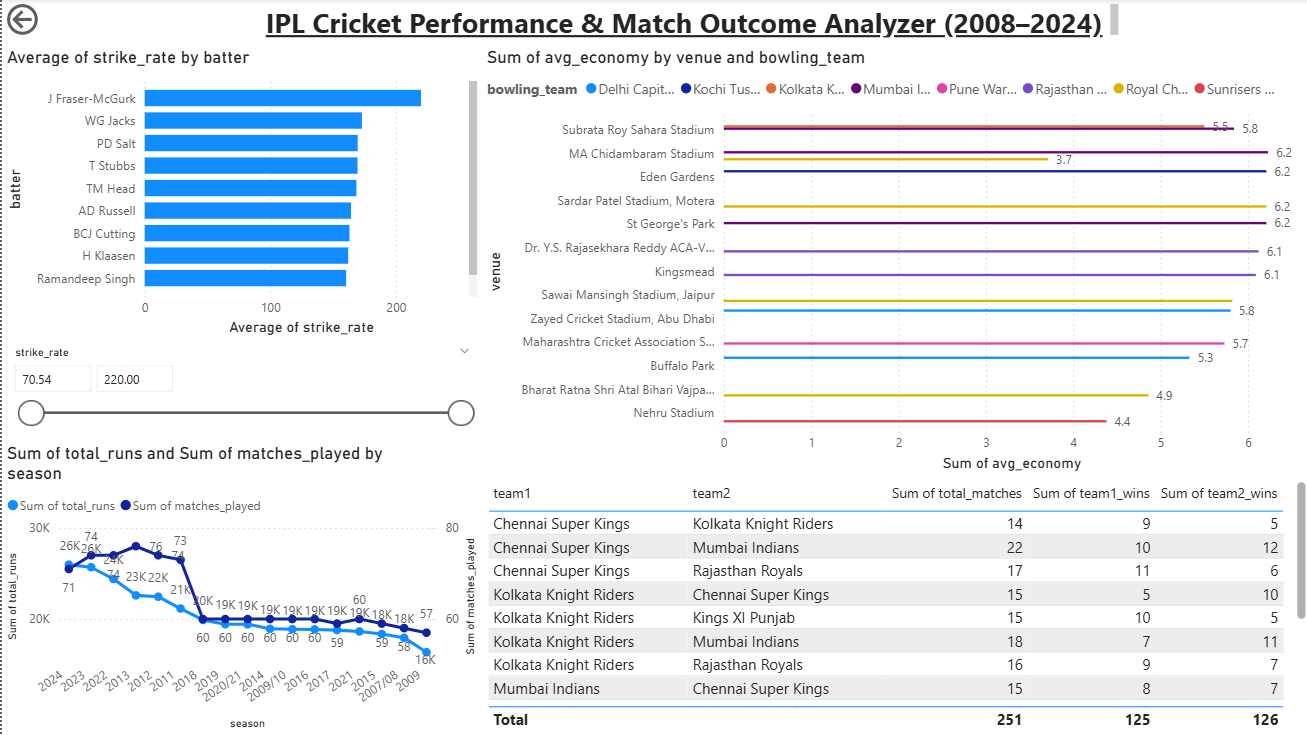

The page's visual inventory and layout, read from the dashboard file:
{"tool":"powerbi","page":{"name":"Page 1","canvas":[1280,720],"ordinal":0},"visuals":[{"type":"clusteredBarChart","fields":{"Category":["batsman_full.batter"],"Y":["Avg(batsman_full.strike_rate)"]},"box":[0,46,470,288],"z":0},{"type":"slicer","fields":{"Values":["batsman_full.strike_rate"]},"box":[0,334,470,100],"z":1000},{"type":"clusteredBarChart","fields":{"Category":["venue_economy.venue"],"Y":["Sum(venue_economy.avg_economy)"],"Series":["venue_economy.bowling_team"]},"box":[470,46,810,420],"z":2000},{"type":"lineChart","fields":{"Category":["season_trends.season"],"Y":["Sum(season_trends.total_runs)"],"Y2":["Sum(season_trends.matches_played)"]},"box":[0,434,470,286],"z":3000},{"type":"tableEx","fields":{"Values":["head_to_head.team1","head_to_head.team2","Sum(head_to_head.total_matches)","Sum(head_to_head.team1_wins)","Sum(head_to_head.team2_wins)"]},"box":[469,467,811,253],"z":4000},{"type":"actionButton","box":[0,0,100,40],"z":5000},{"type":"textbox","box":[246.2,0,851.2,42.5],"z":6000}]}

Visuals, with their boxes on the page's 1280x720 design canvas (x1, y1, x2, y2). These are canvas units, not pixel positions in the 1307x735 screenshot, which may show the page scaled, cropped or inside an application window:
clusteredBarChart - batsman_full.batter x Avg(batsman_full.strike_rate): {"left": 0, "top": 46, "right": 470, "bottom": 334}
slicer - batsman_full.strike_rate: {"left": 0, "top": 334, "right": 470, "bottom": 434}
clusteredBarChart - venue_economy.venue x Sum(venue_economy.avg_economy): {"left": 470, "top": 46, "right": 1280, "bottom": 466}
lineChart - season_trends.season x Sum(season_trends.total_runs): {"left": 0, "top": 434, "right": 470, "bottom": 720}
tableEx - head_to_head.team1 x head_to_head.team2: {"left": 469, "top": 467, "right": 1280, "bottom": 720}
actionButton: {"left": 0, "top": 0, "right": 100, "bottom": 40}
textbox: {"left": 246, "top": 0, "right": 1097, "bottom": 42}
